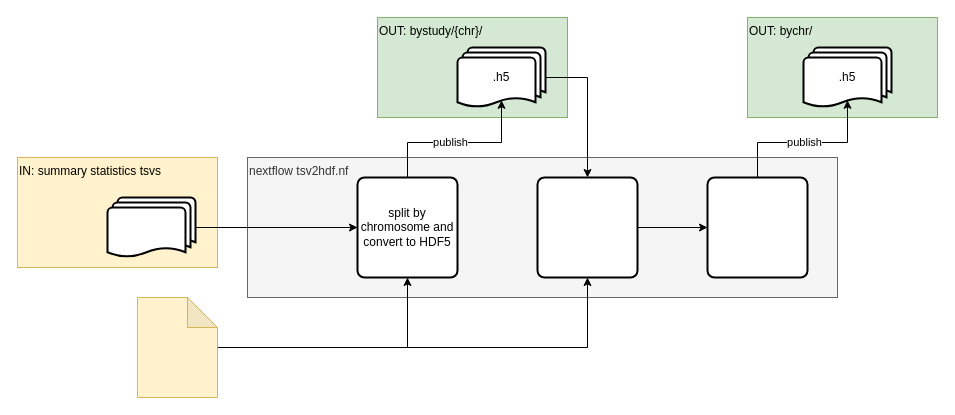
The diagram is 955 pixels wide and 415 high, and some of its shapes have lost their labels. The shapes that lost their labels are listed below. From the top down, each one's centre as x and y in pixels, then its label:
pixel 151 227: .tsv
pixel 587 227: consolidate by chromosome
pixel 757 227: index consolidated HDF5
pixel 177 347: IN: metadata
